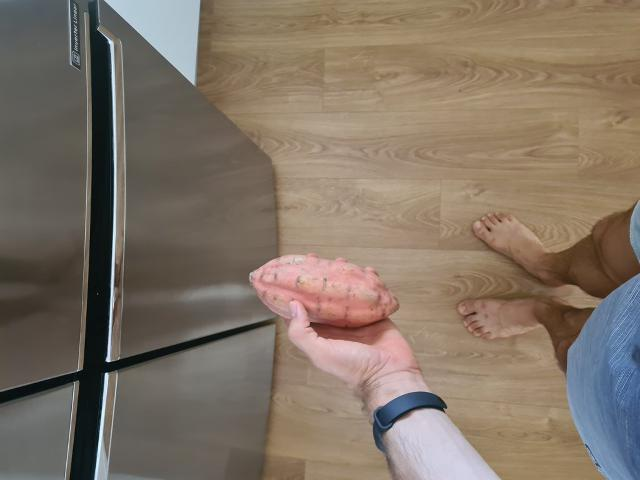sweet_potato: (247, 254, 402, 328)
